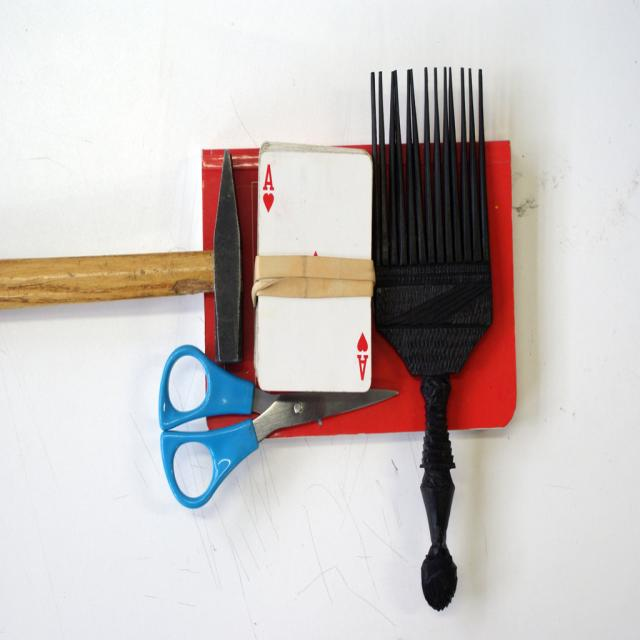scissors: (158, 344, 398, 508)
